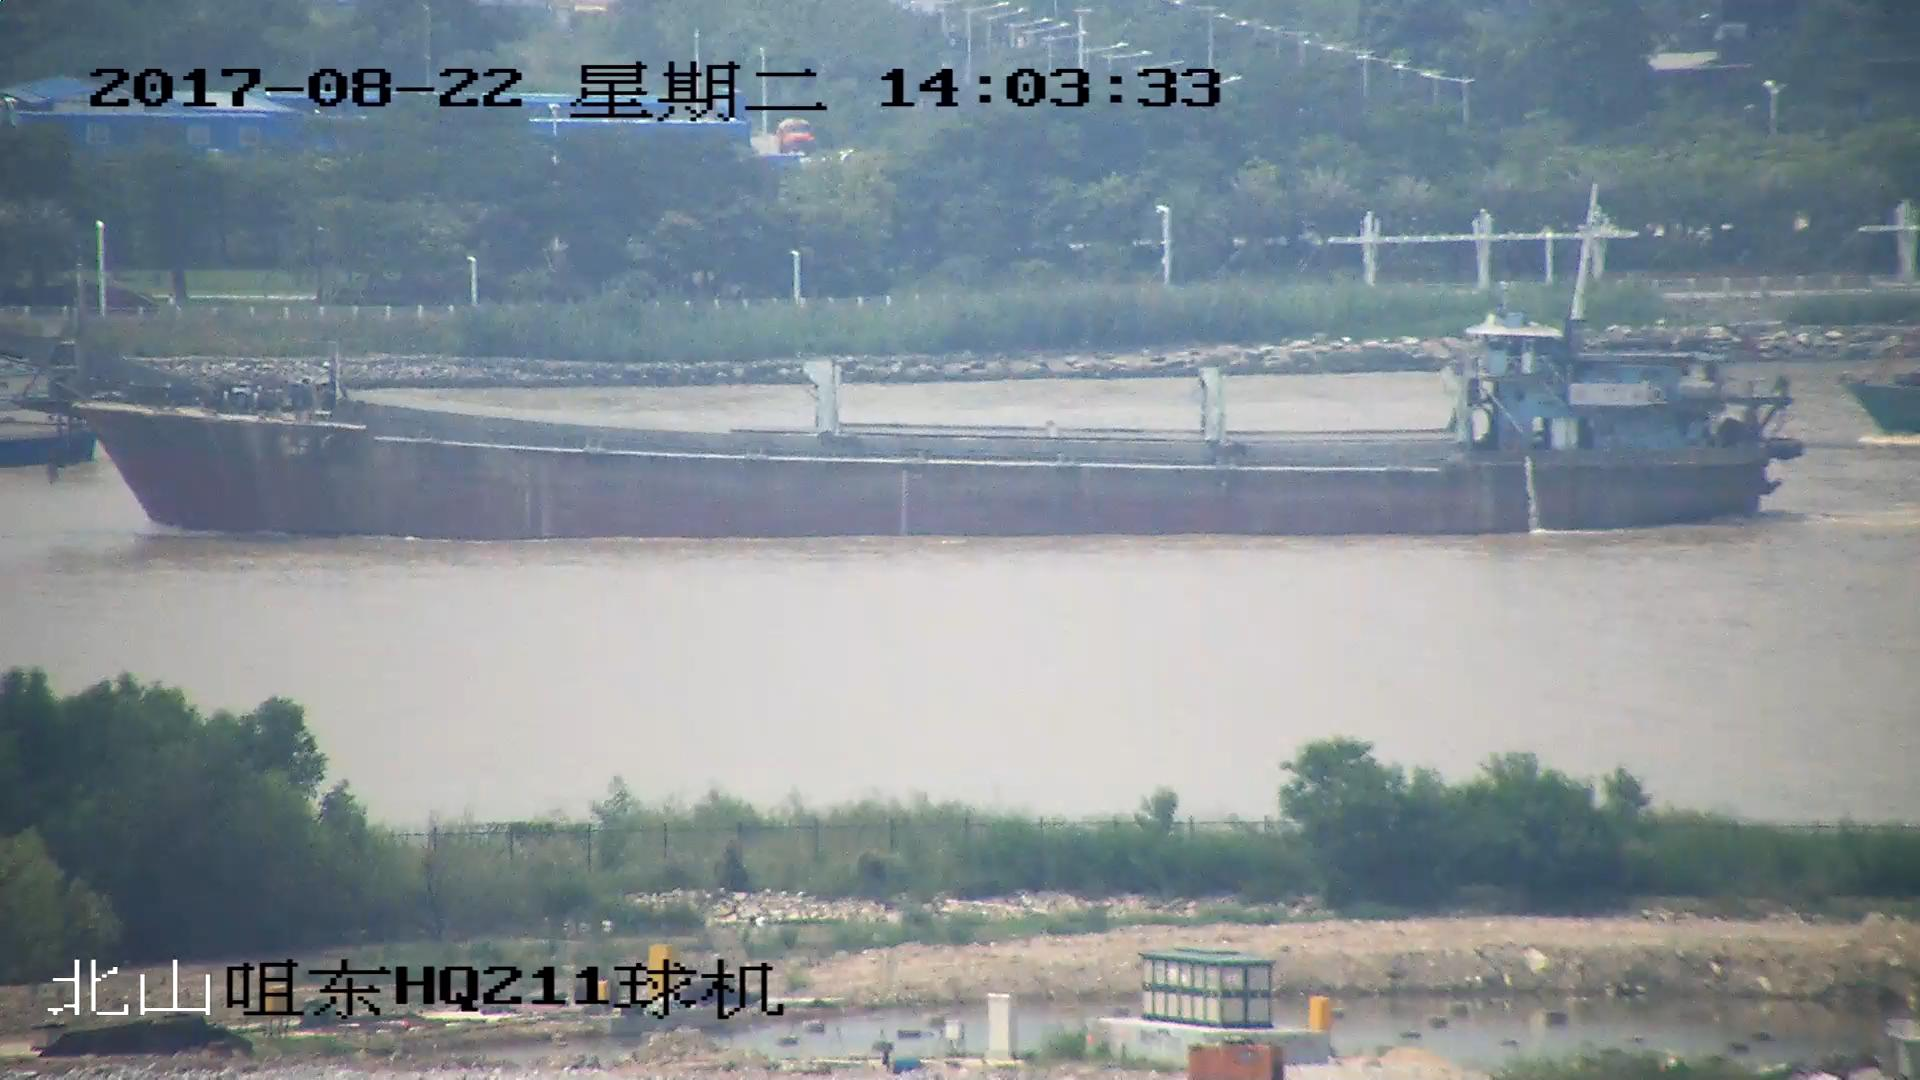bulk cargo carrier: (1, 278, 1793, 537)
fishing boat: (1, 383, 108, 469)
